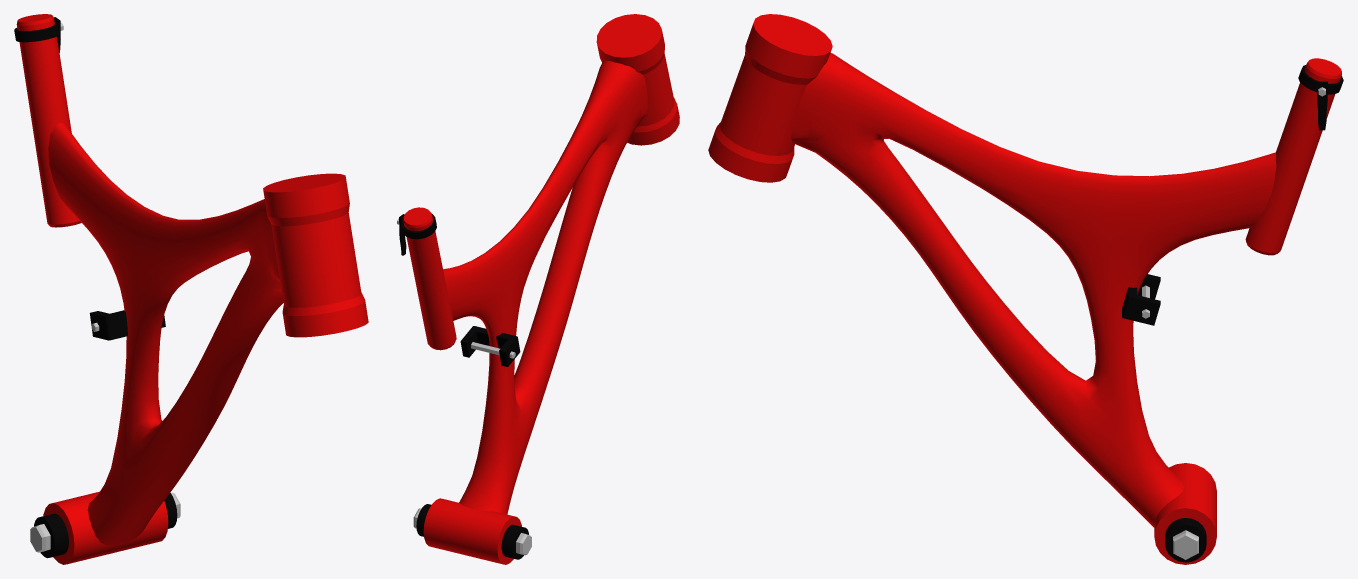
The model's file is bicycle_body_no_seat.fbx.
3 renders of one model, left to right at view 1: azimuth 30°, elevation 25°; view 2: azimuth 150°, elevation 25°; view 3: azimuth 270°, elevation 25°, orthographic. The views are drawn at different scales.
Visible parts, largest first — view 1: frame1; view 2: frame1; view 3: frame1.
Boxes of the visible parts, box(x1,y1,x2,y2) form: frame1: box(14, 14, 368, 564); frame1: box(397, 14, 679, 564); frame1: box(708, 14, 1343, 564).
Bounding box in the file's own units: 16.56 × 59.92 × 66.53.
